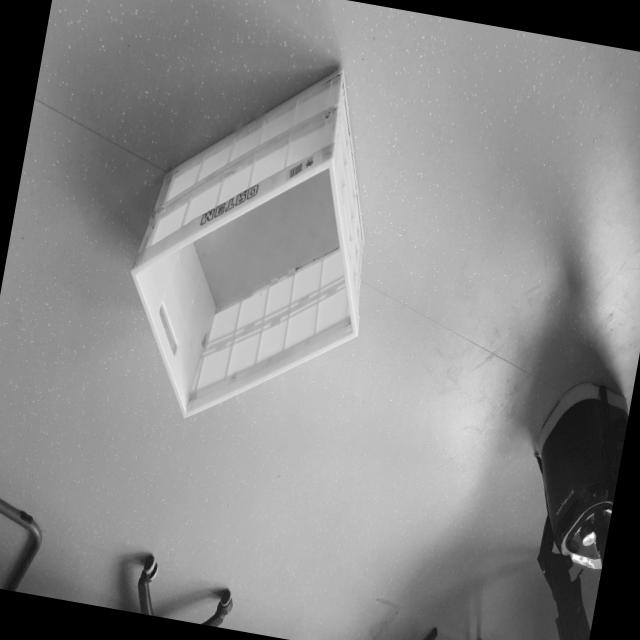box: (98, 16, 409, 462)
